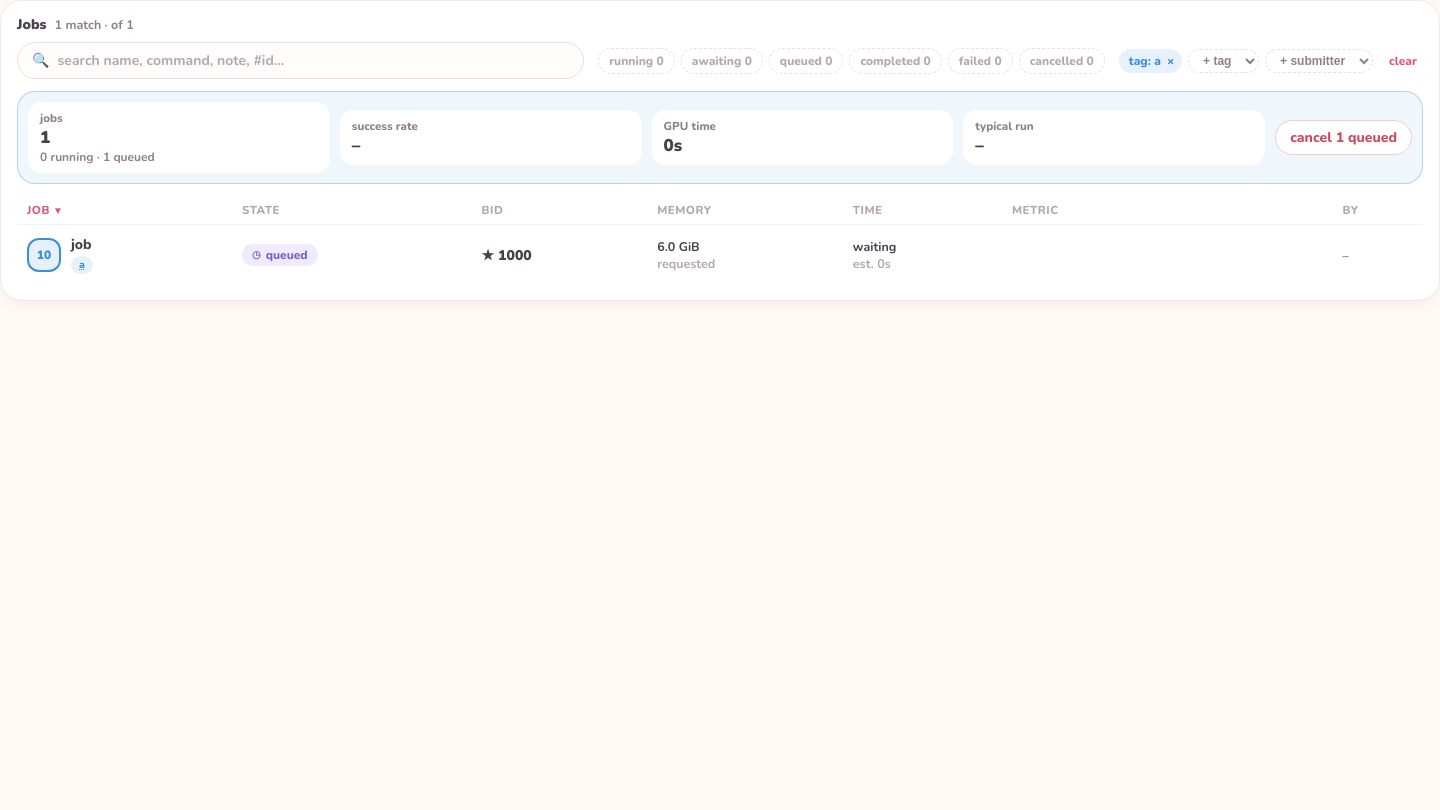
Test: JobTable › keys the tag summary by tag, so a bulk-action result line doesn't carry over when the active tag changes
The width and height of the screenshot is (1440, 810).
Click the button "cancel 1 queued" at (1344, 138), box [1275,120,1412,155]
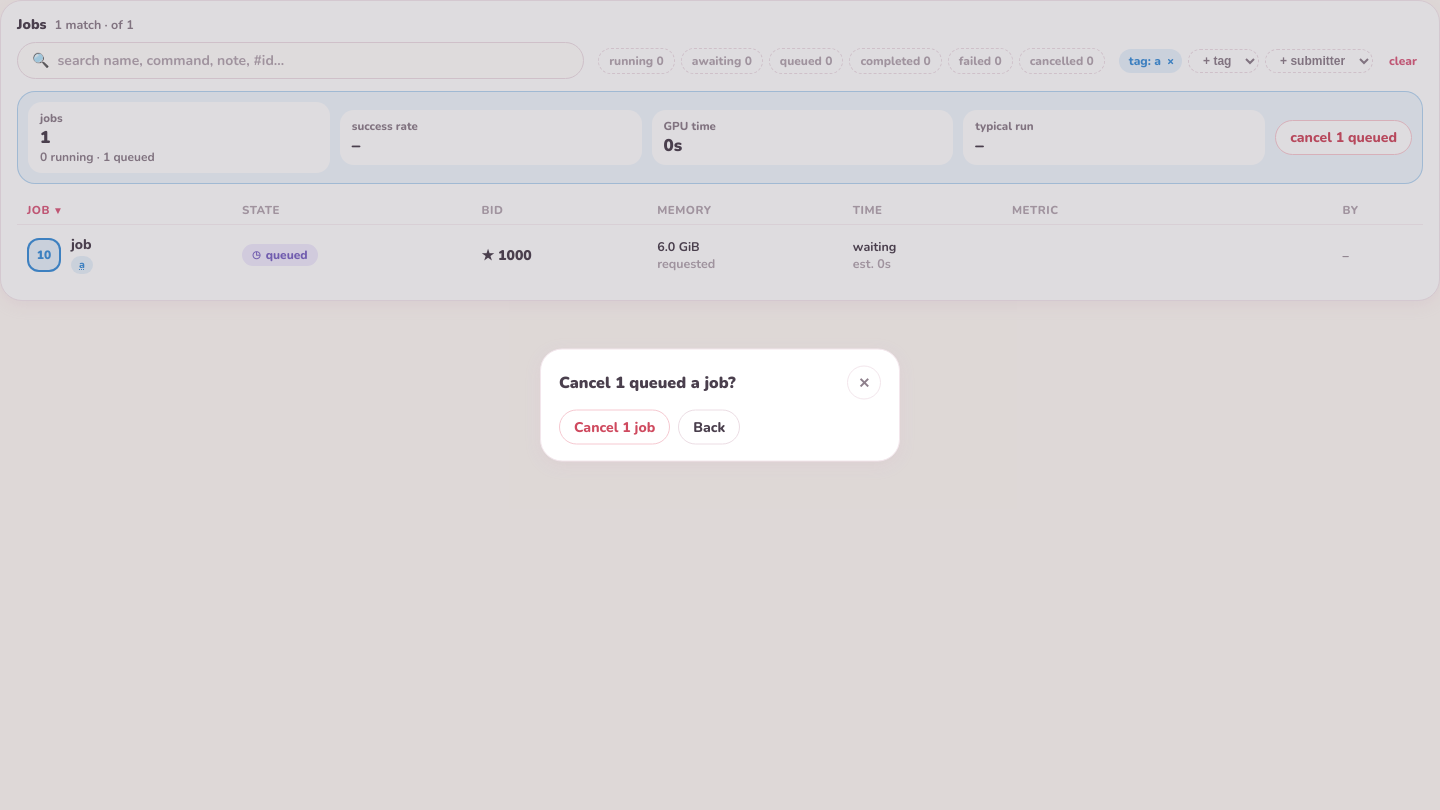
Click the button "Cancel 1 job" at (615, 427), box [559,410,670,444]
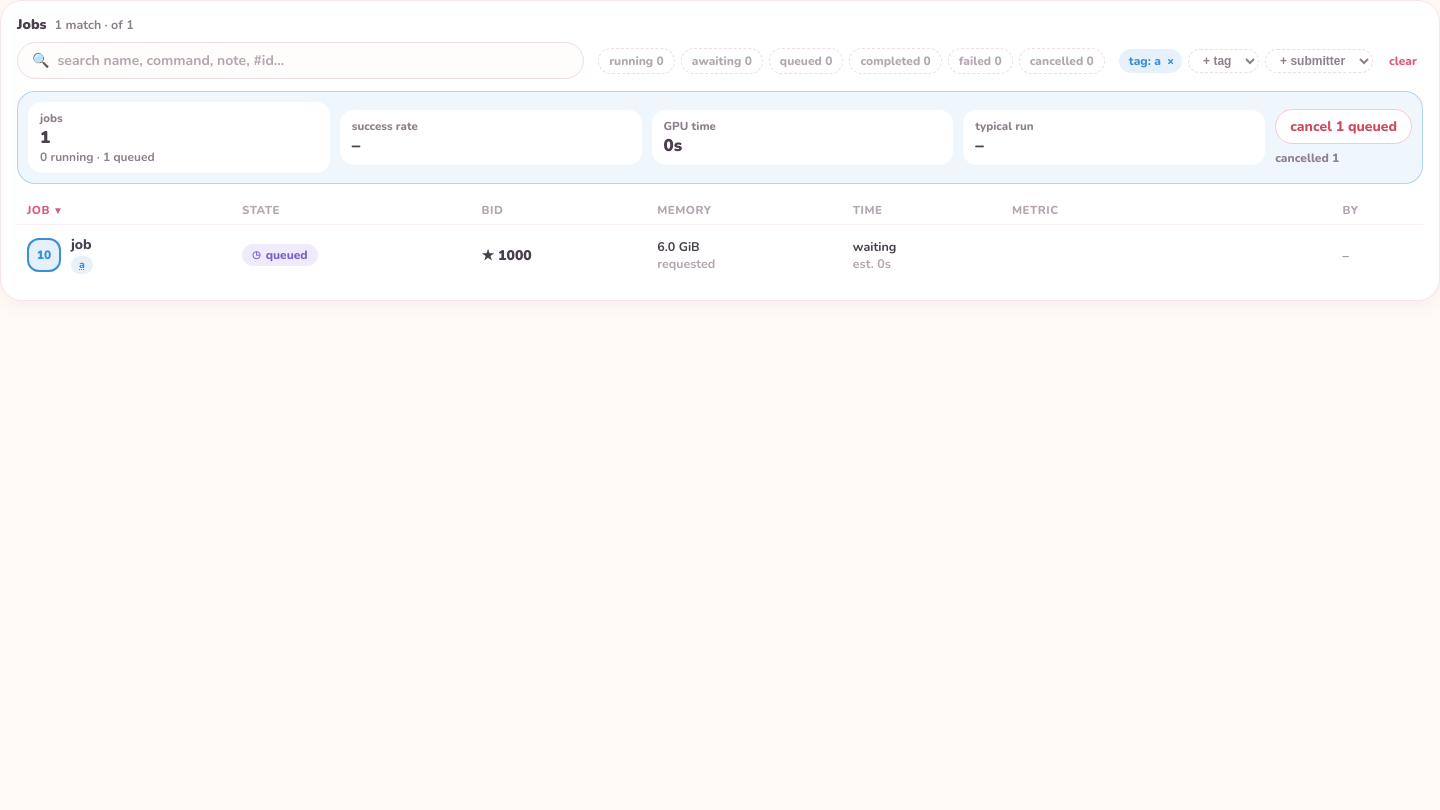
Result: the text "cancelled 1" is shown at [1275,150,1339,166]
